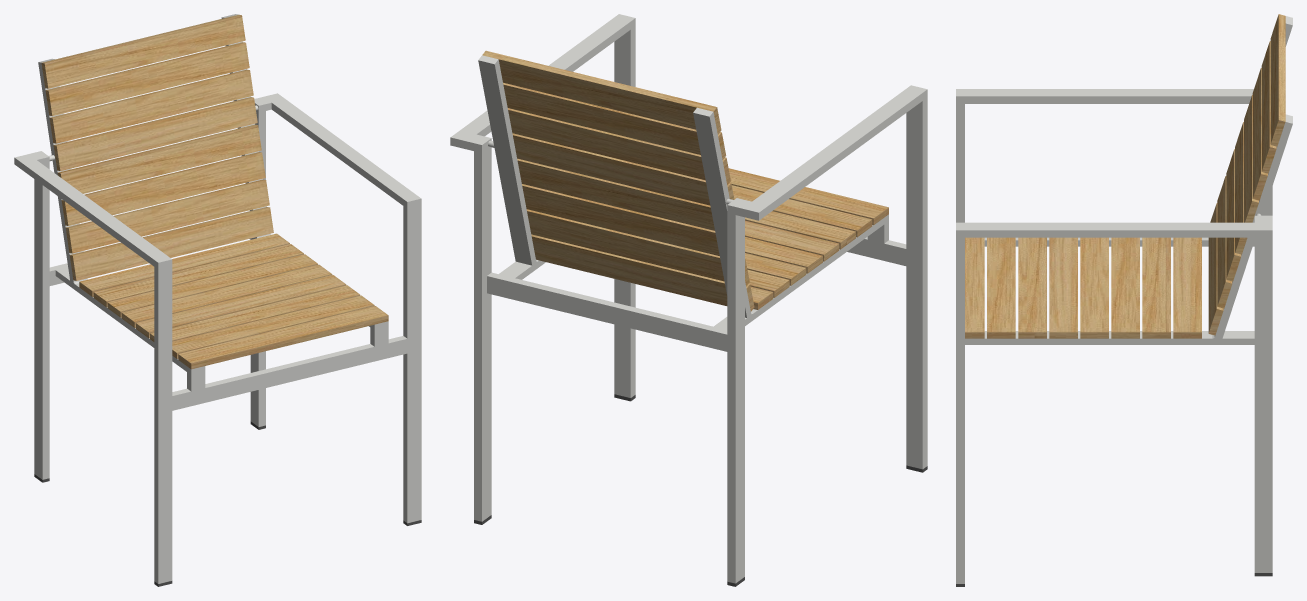
File: rise_armchair_nocolor.fbx
The picture shows the model from 3 angles, left to right: view 1: azimuth 30°, elevation 25°; view 2: azimuth 150°, elevation 25°; view 3: azimuth 270°, elevation 25°; orthographic projection. The views are drawn at different scales.
Visible parts, largest first — view 1: rise_armchair; view 2: rise_armchair; view 3: rise_armchair.
Boxes of the visible parts, bbox=[...] form: rise_armchair: bbox=[14, 14, 421, 586]; rise_armchair: bbox=[450, 14, 927, 586]; rise_armchair: bbox=[956, 14, 1292, 586].
Bounding box in the file's own units: 56 × 82.99 × 56.4.
3 materials, 1 textured.
